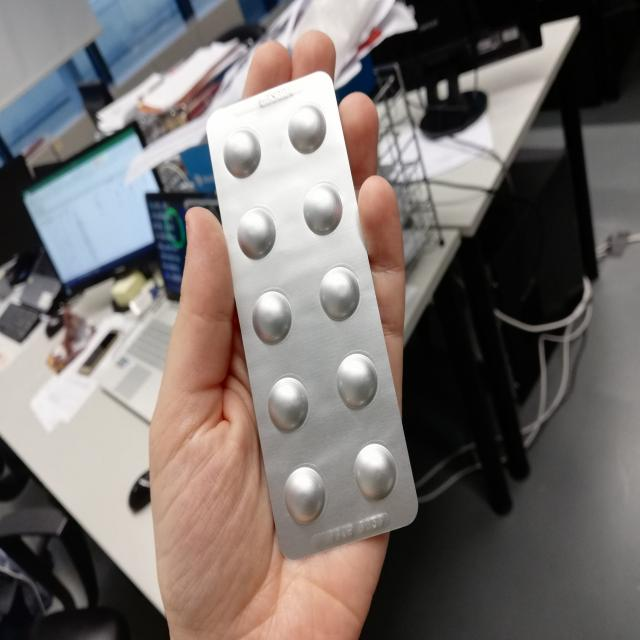Pill: (261, 370, 315, 439), (348, 434, 398, 506), (328, 350, 384, 413), (246, 285, 298, 352), (279, 461, 331, 528), (312, 259, 362, 324), (293, 180, 343, 244), (215, 124, 261, 183), (233, 204, 275, 263), (286, 100, 328, 157)
